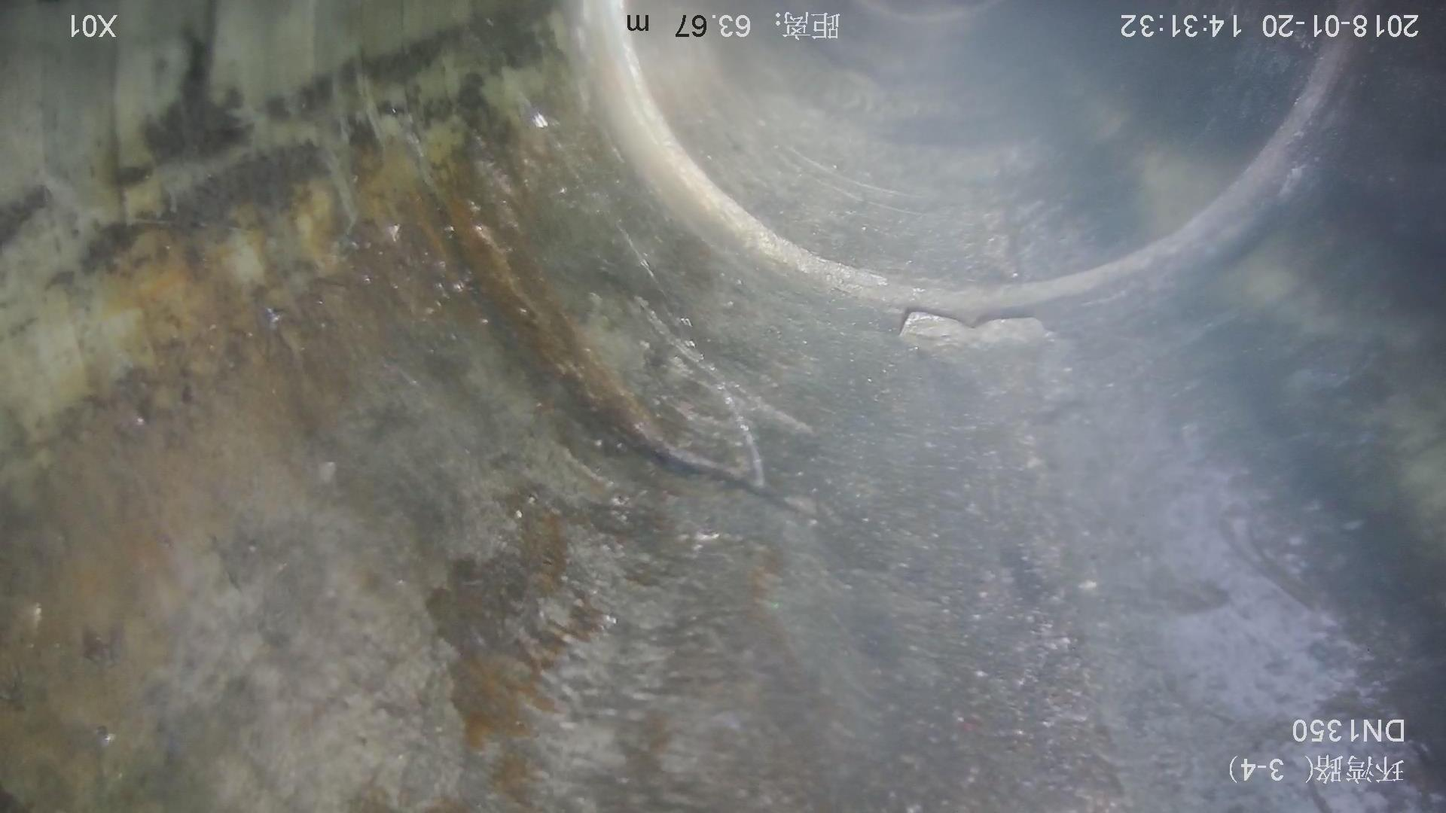SL: (416, 62, 804, 510)
